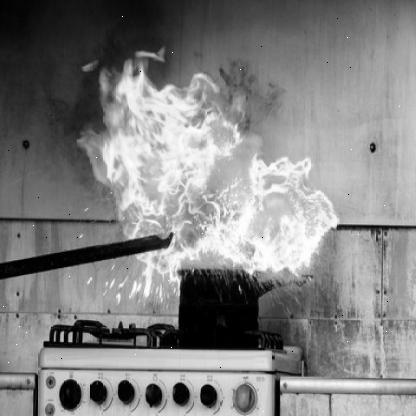fire: (66, 44, 339, 280)
